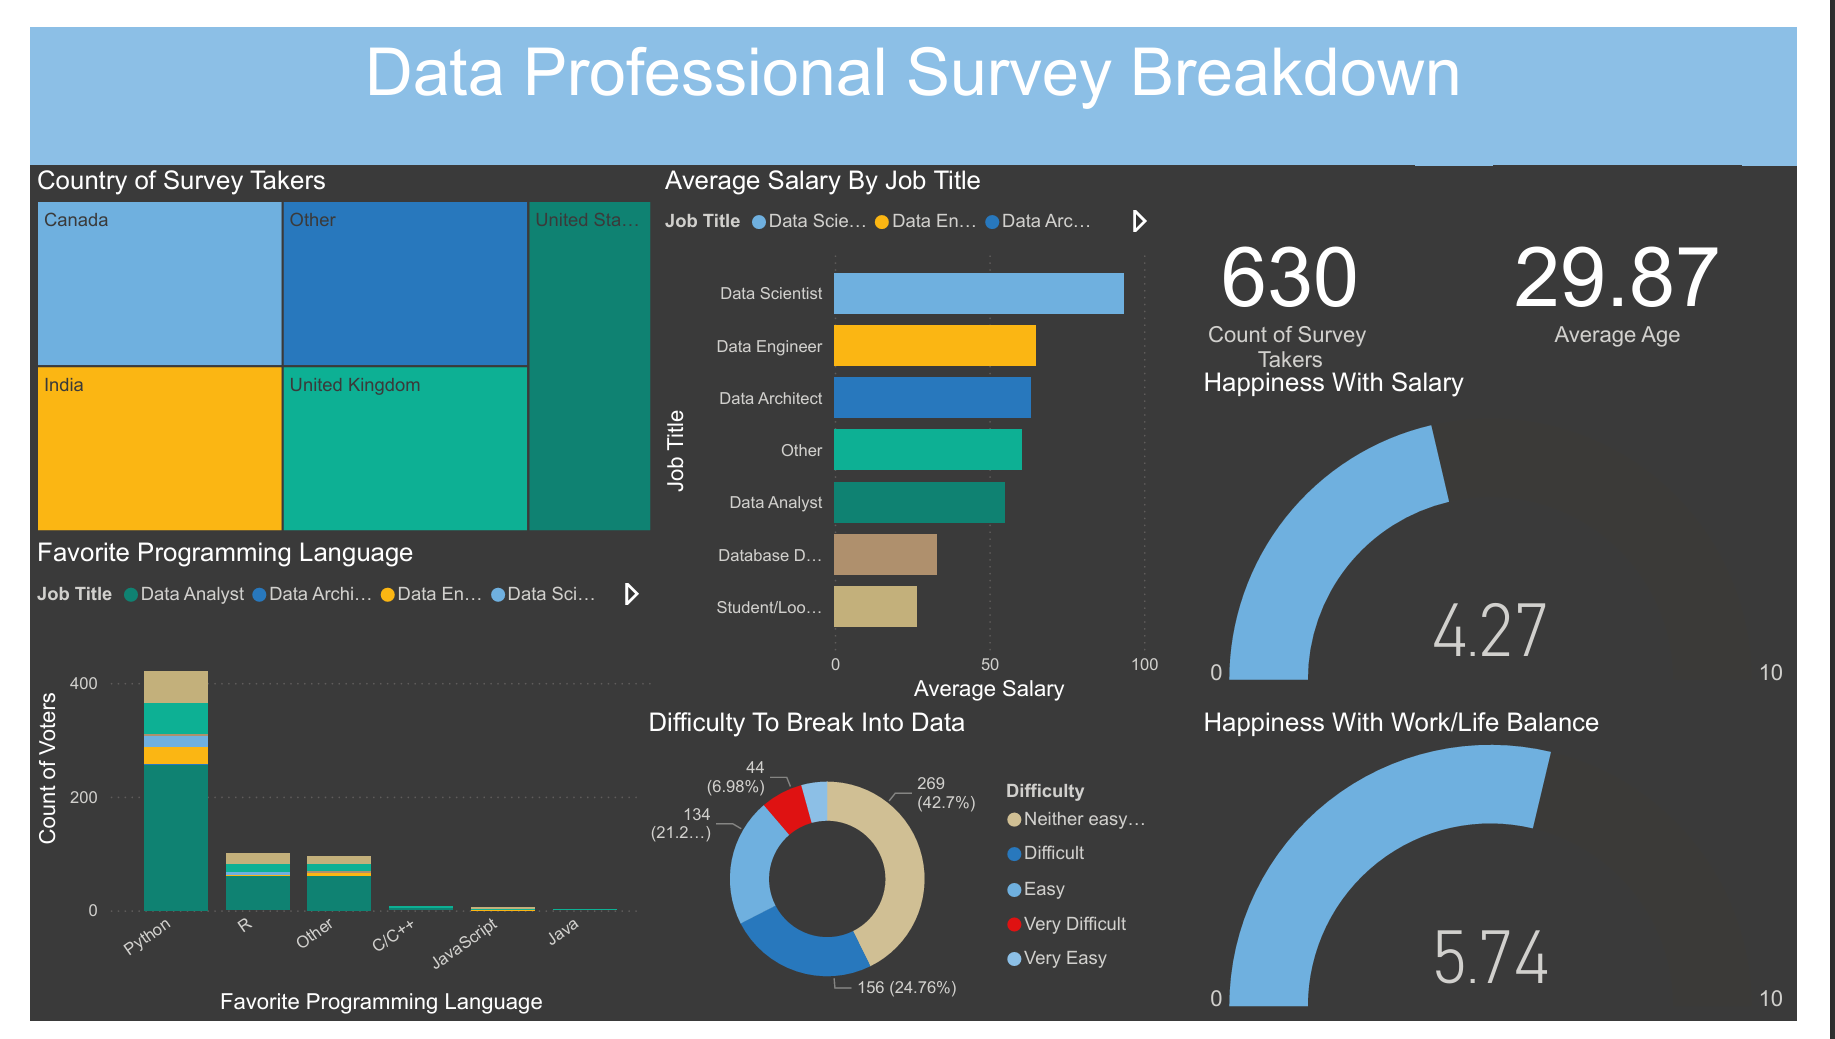

The page's visual inventory and layout, read from the dashboard file:
{"tool":"powerbi","page":{"name":"Page 1","canvas":[1280,720],"ordinal":0},"visuals":[{"type":"textbox","box":[0,0,1280,100],"z":0},{"type":"card","fields":{"Values":["Count(Data Professional Survey.Unique ID)"]},"box":[822.5,100,180,170],"z":1000},{"type":"card","fields":{"Values":["Avg(Data Professional Survey.Q10 - Current Age)"]},"box":[1060,100,180,170],"z":2000},{"type":"barChart","title":"Average Salary By Job Title","fields":{"Category":["Data Professional Survey.Q1 - Which Title Best Fits your Current Role?.1"],"Y":["Avg(Data Professional Survey.Average Salary)"],"Series":["Data Professional Survey.Q1 - Which Title Best Fits your Current Role?.1"]},"box":[455,100,368.3,341.7],"z":3000},{"type":"columnChart","title":"Favorite Programming Language","fields":{"Category":["Data Professional Survey.Q5 - Favorite Programming Language.1"],"Y":["CountNonNull(Data Professional Survey.Unique ID)"],"Series":["Data Professional Survey.Q1 - Which Title Best Fits your Current Role?.1"]},"box":[0,398.3,455,321.7],"z":4000},{"type":"treemap","title":"Country of Survey Takers","fields":{"Group":["Data Professional Survey.Q11 - Which Country do you live in?.1"],"Values":["Count(Data Professional Survey.Q11 - Which Country do you live in?.1)"]},"box":[0,100,455,270],"z":5000},{"type":"gauge","title":"Happiness With Work/Life Balance","fields":{"Y":["Avg(Data Professional Survey.Q6 - How Happy are you in your Current Position with the following? (Work/Life Balance))"],"MinValue":["Min(Data Professional Survey.Q6 - How Happy are you in your Current Position with the following? (Work/Life Balance))1"],"MaxValue":["Max(Data Professional Survey.Q6 - How Happy are you in your Current Position with the following? (Work/Life Balance))2"]},"box":[845,515,435,205],"z":6000},{"type":"gauge","title":"Happiness With Salary","fields":{"Y":["Avg(Data Professional Survey.Q6 - How Happy are you in your Current Position with the following? (Salary))"],"MinValue":["Min(Data Professional Survey.Q6 - How Happy are you in your Current Position with the following? (Salary))"],"MaxValue":["Max(Data Professional Survey.Q6 - How Happy are you in your Current Position with the following? (Salary))"]},"box":[845,271.7,435,221.7],"z":7000},{"type":"donutChart","title":"Difficulty To Break Into Data","fields":{"Category":["Data Professional Survey.Q7 - How difficult was it for you to break into Data?"],"Y":["CountNonNull(Data Professional Survey.Q7 - How difficult was it for you to break into Data?)"]},"box":[443.3,493.3,380,226.7],"z":8000}]}

Visuals, with their boxes in screenshot pixels (x1, y1, x2, y2), scaled from the page's 1280x720 canvas onto the 1835x1039 screenshot:
textbox: 0 0 1834 144
card - Count(Data Professional Survey.Unique ID): 1179 144 1437 390
card - Avg(Data Professional Survey.Q10 - Current Age): 1520 144 1778 390
"Average Salary By Job Title" barChart: 652 144 1180 637
"Favorite Programming Language" columnChart: 0 575 652 1038
"Country of Survey Takers" treemap: 0 144 652 534
"Happiness With Work/Life Balance" gauge: 1211 743 1834 1038
"Happiness With Salary" gauge: 1211 392 1834 712
"Difficulty To Break Into Data" donutChart: 636 712 1180 1038
